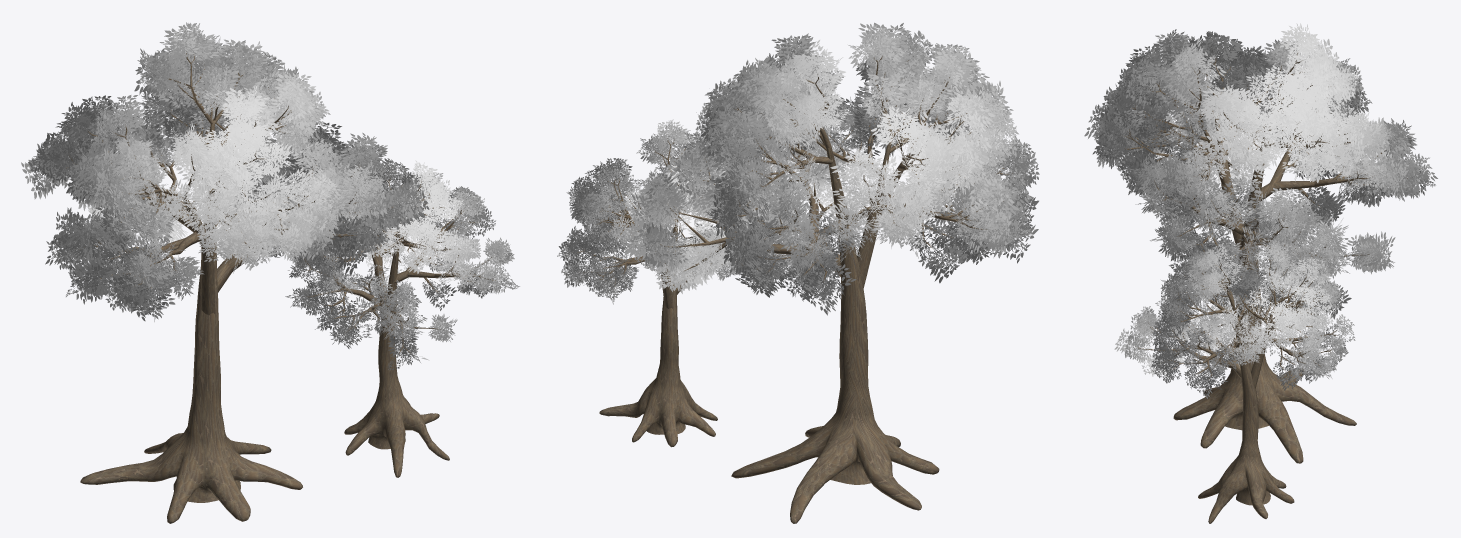
File: Great_Trees_1A1.fbx
3 renders of one model, left to right at view 1: azimuth 30°, elevation 25°; view 2: azimuth 150°, elevation 25°; view 3: azimuth 270°, elevation 25°, orthographic. The views are drawn at different scales.
Parts seen in each view (by area): view 1: Great_Tree_1A1, Great_Tree_1A2; view 2: Great_Tree_1A1, Great_Tree_1A2; view 3: Great_Tree_1A1, Great_Tree_1A2.
Part boxes in pixels (x1=…): Great_Tree_1A1: x1=21, y1=22, x2=429, y2=523; Great_Tree_1A2: x1=285, y1=158, x2=519, y2=477; Great_Tree_1A1: x1=621, y1=22, x2=1039, y2=523; Great_Tree_1A2: x1=557, y1=119, x2=801, y2=447; Great_Tree_1A1: x1=1084, y1=23, x2=1437, y2=463; Great_Tree_1A2: x1=1114, y1=238, x2=1355, y2=523.
Size of what is drawn, in the model's own units: 4962 by 4782 by 3887.
